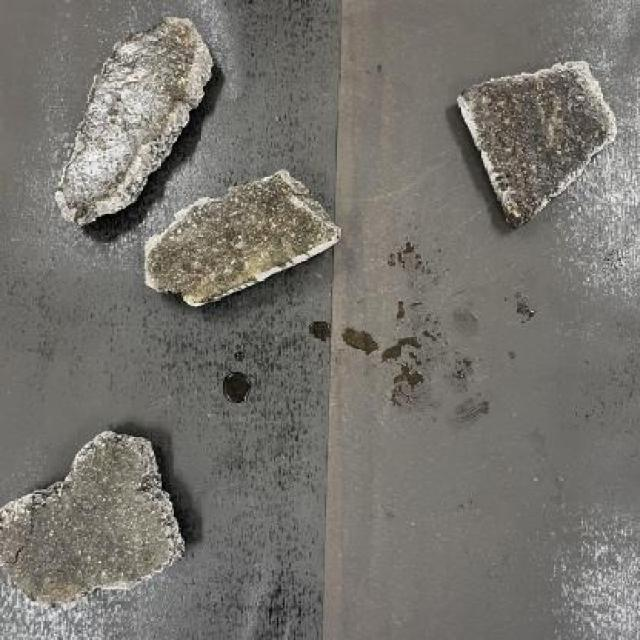Road Debris: (8, 438, 170, 604), (142, 174, 347, 302), (61, 39, 190, 213), (466, 72, 604, 216)
